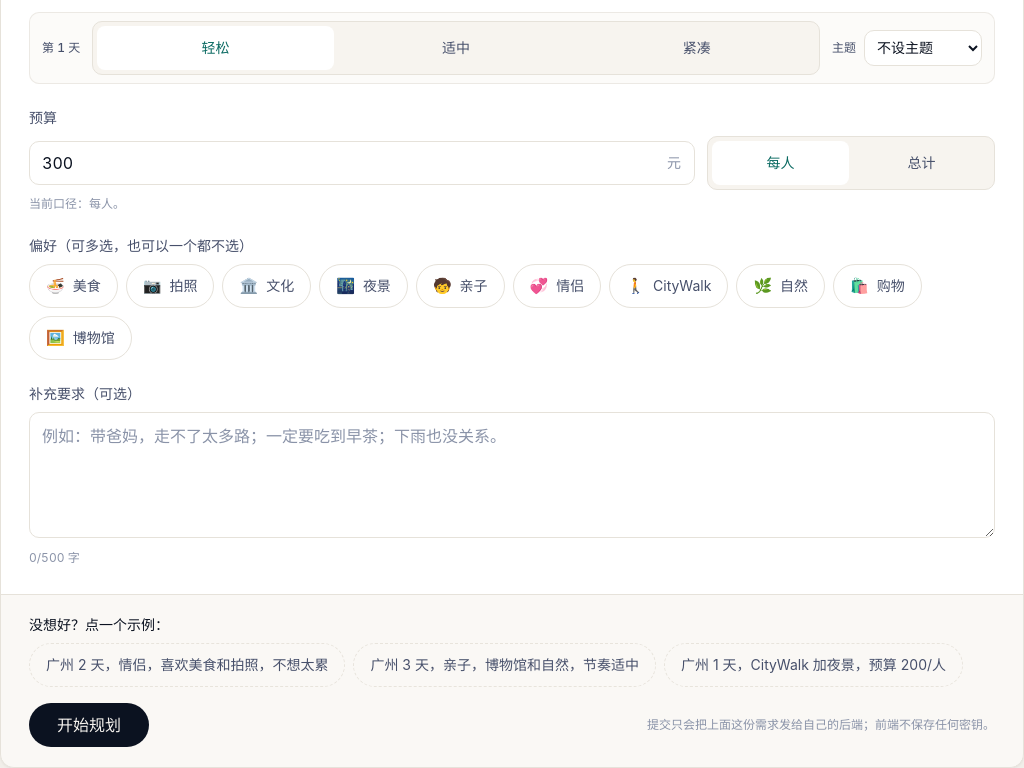
PlannerForm 补充要求字数上限 › 未达上限时不显示提示
This screenshot has width=1024, height=768.
(page scrolled)
Type "想吃早茶" into the text box labelled "补充要求（可选）".
click(512, 475); type("想吃早茶")  # box [29,412,995,538]
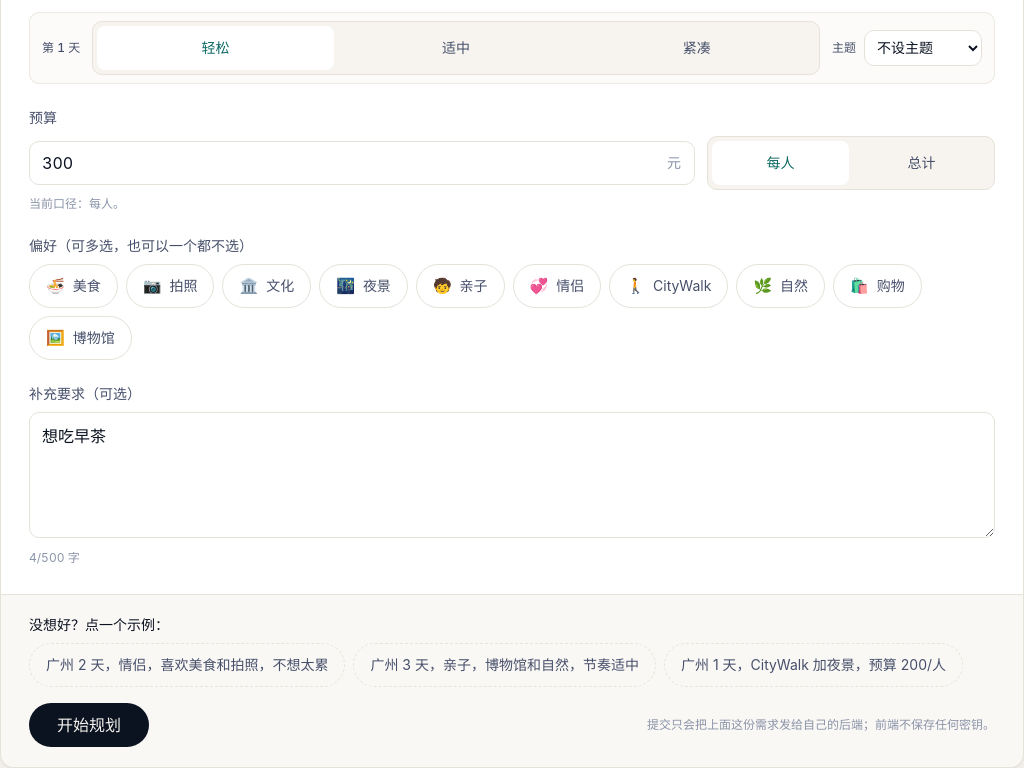
Result: the text "4/500 字" is shown at [29,550,80,565]
